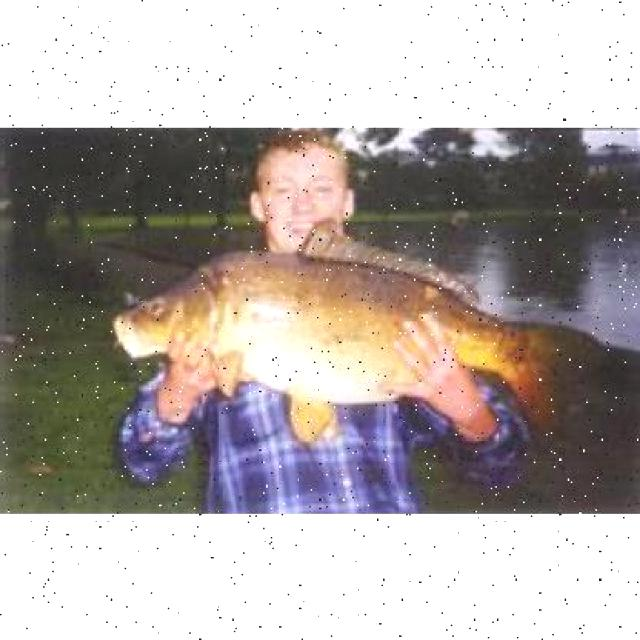ikan-mas: (113, 241, 562, 427)
